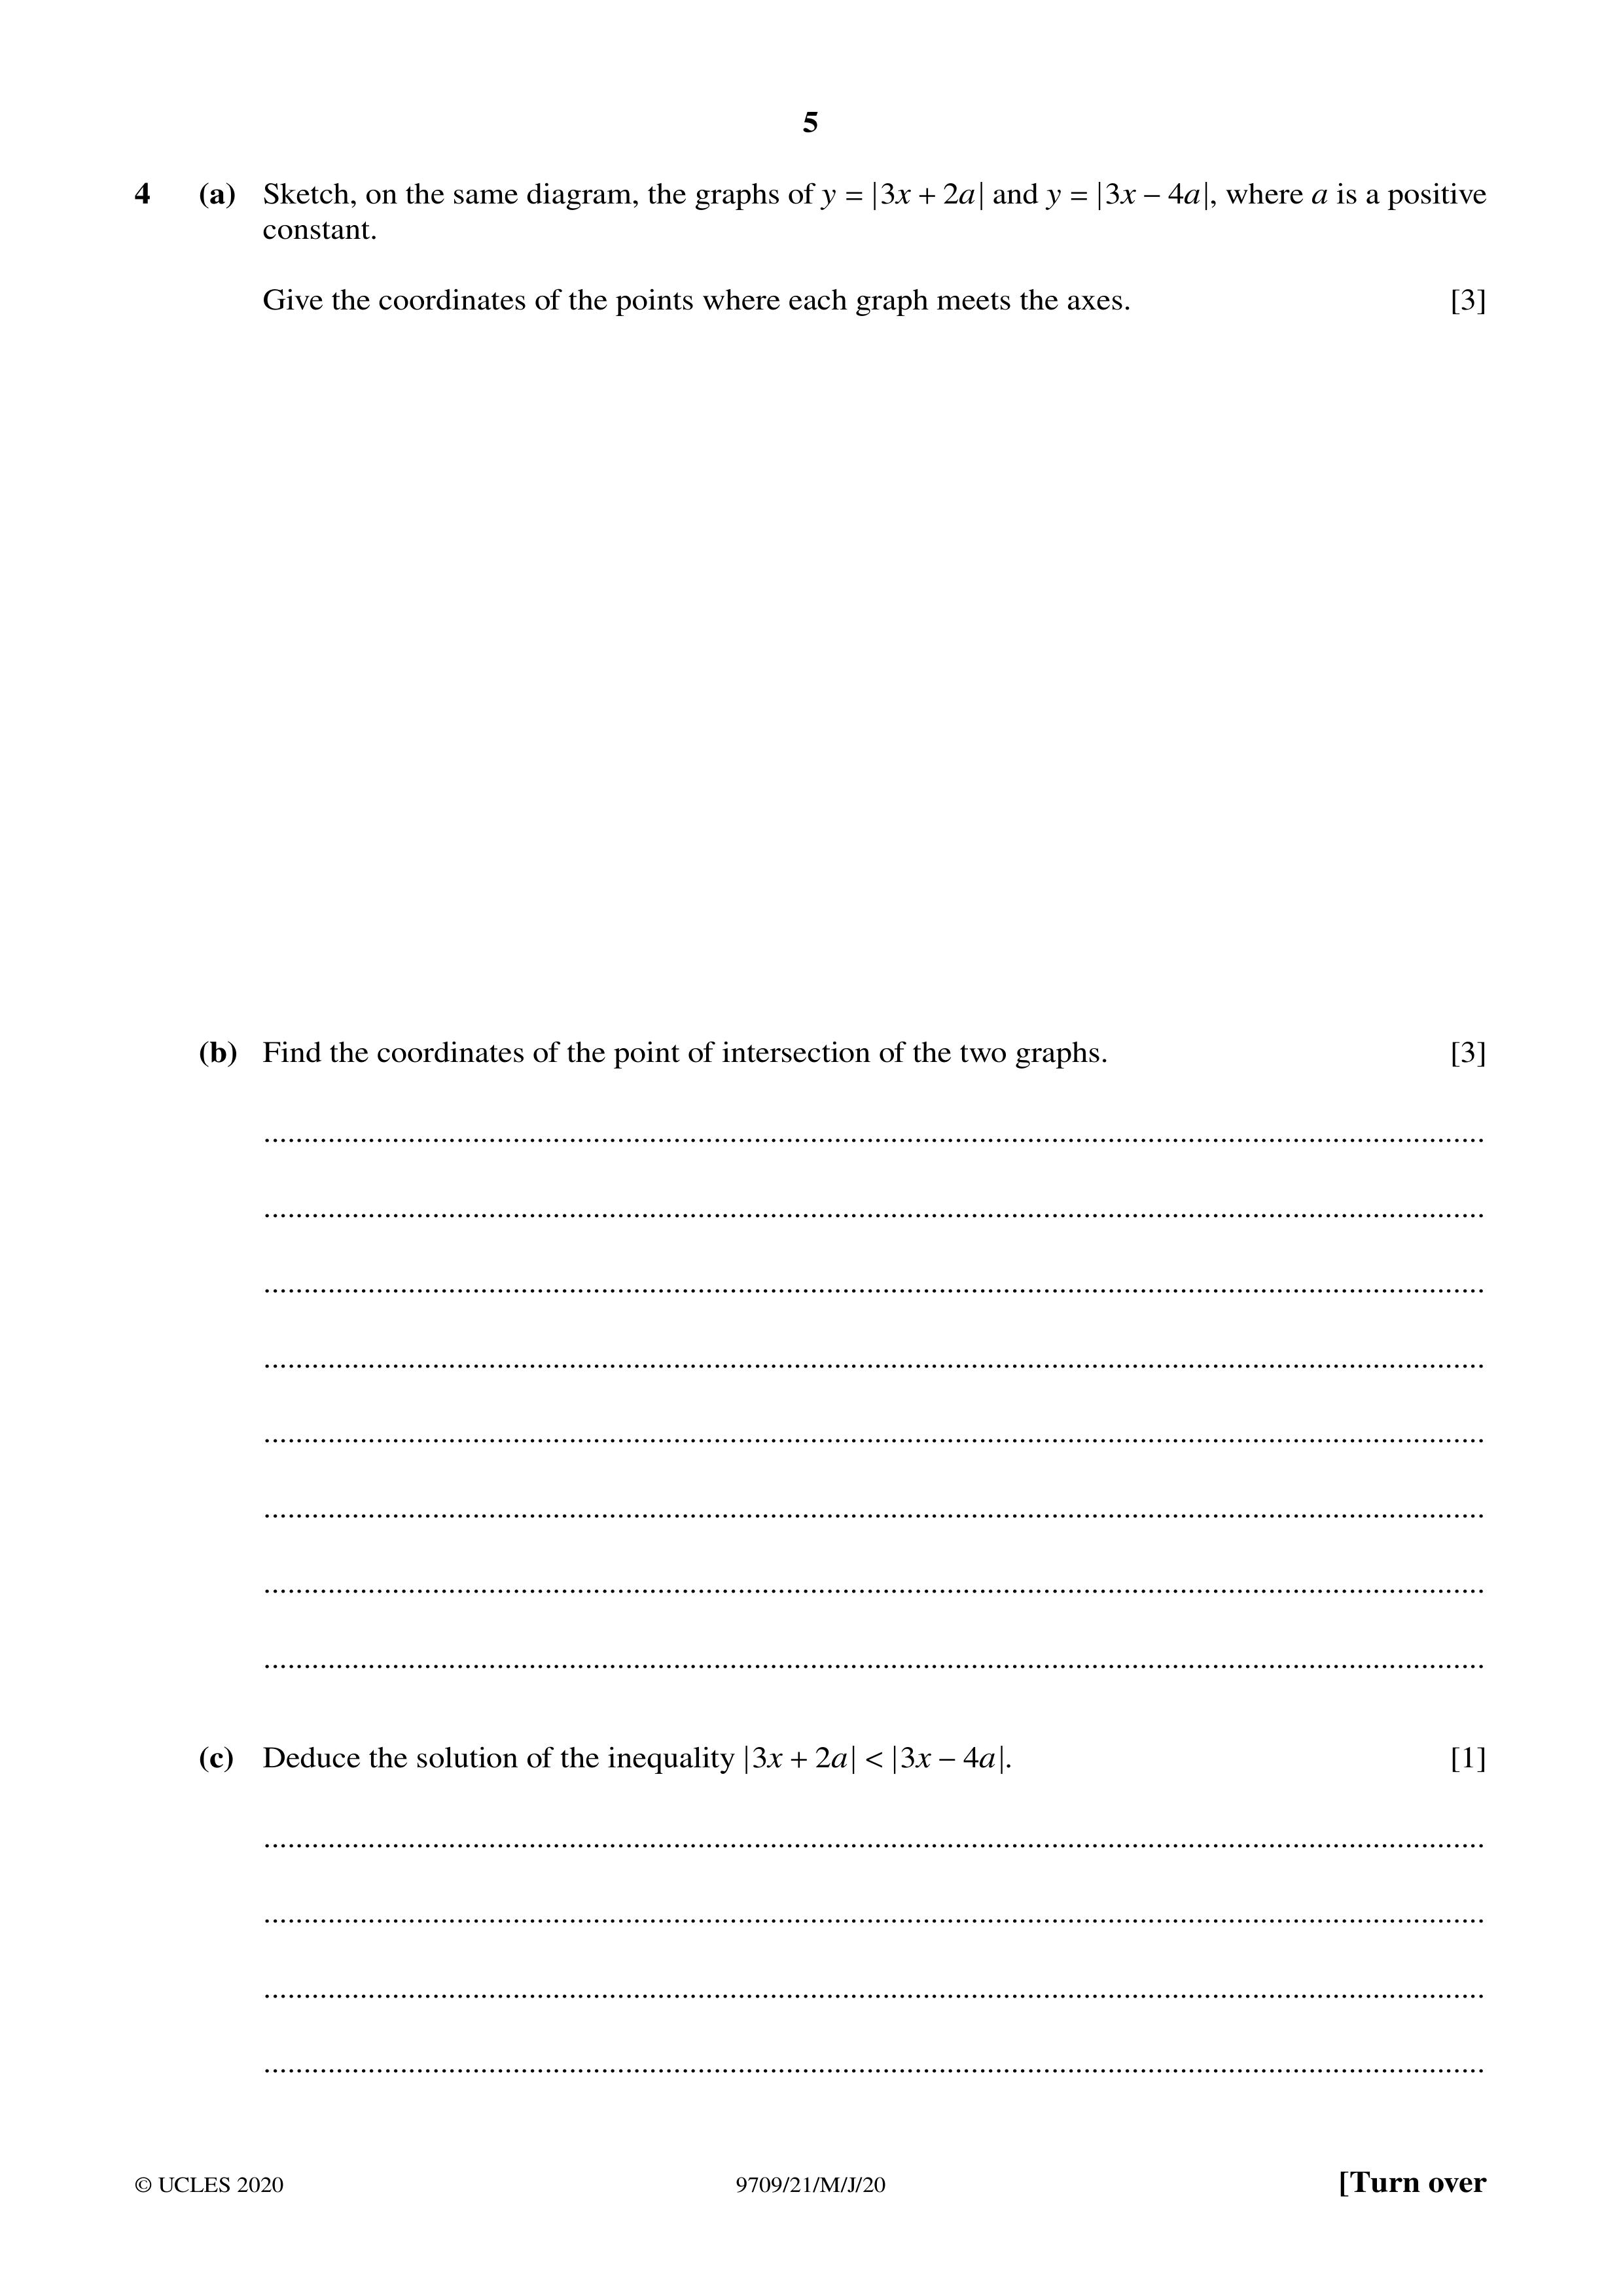question: (111, 149, 1519, 372), (148, 979, 1516, 1108), (163, 1692, 1514, 1815)
